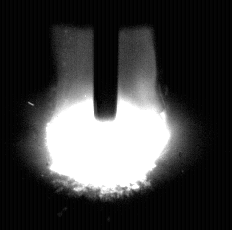arame: (95, 0, 119, 121)
poca: (45, 0, 170, 230)
